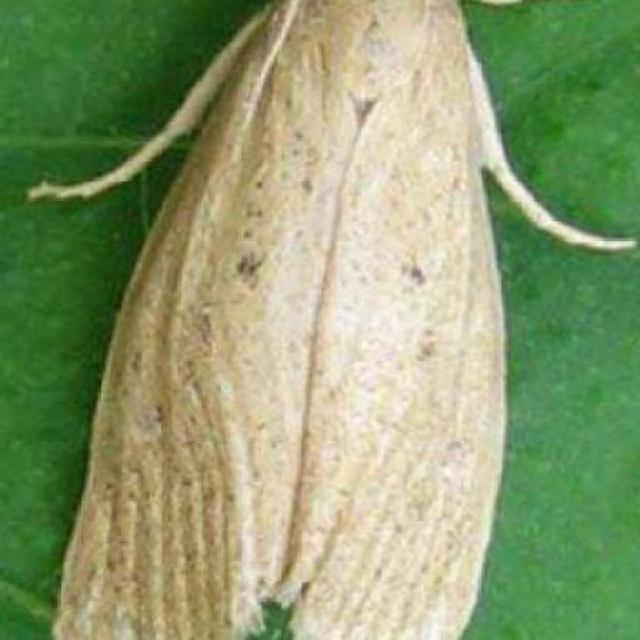stem-borer: (53, 0, 525, 640)
